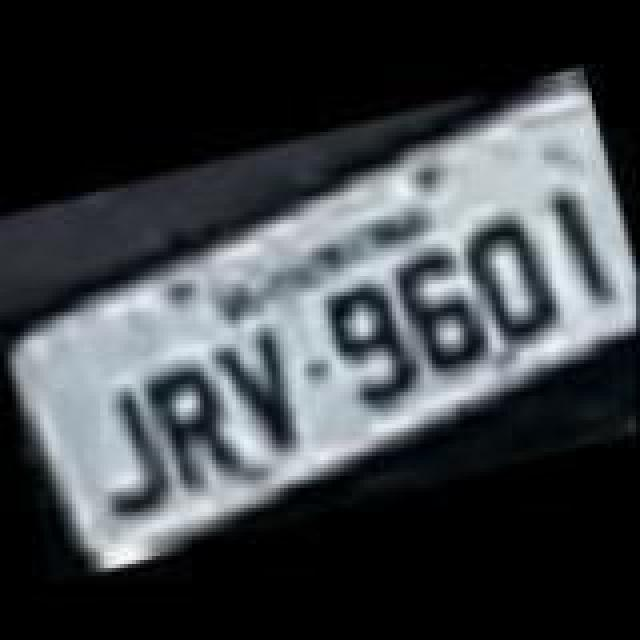1: (544, 180, 616, 308)
6: (382, 234, 494, 382)
9: (316, 270, 424, 414)
J: (78, 382, 178, 522)
O: (454, 210, 566, 346)
R: (148, 354, 252, 494)
V: (210, 322, 310, 462)
